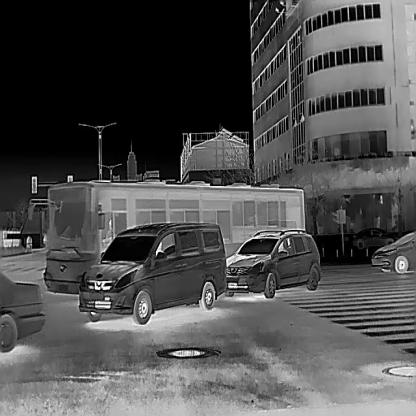bus: (27, 177, 305, 294)
car: (77, 221, 226, 323), (226, 227, 320, 297), (0, 270, 45, 352), (370, 230, 416, 274), (352, 226, 398, 249)
